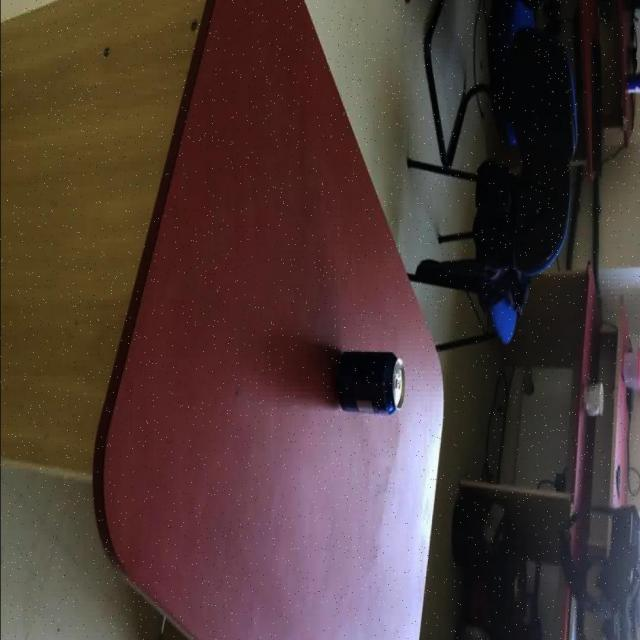Tonic: (337, 348, 407, 415), (627, 67, 640, 93)
